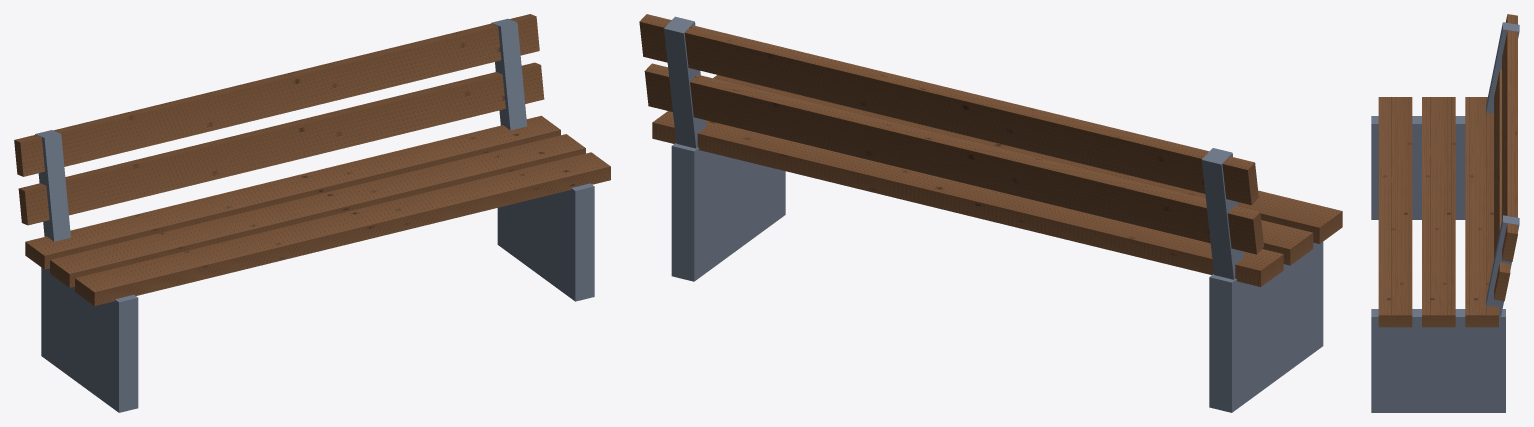
File: ch5_prop_courtyard_bench.glb
The picture shows the model from 3 angles, left to right: view 1: azimuth 30°, elevation 25°; view 2: azimuth 150°, elevation 25°; view 3: azimuth 270°, elevation 25°; orthographic projection. The views are drawn at different scales.
Parts seen in each view (by area): view 1: ch5_prop_courtyard_bench; view 2: ch5_prop_courtyard_bench; view 3: ch5_prop_courtyard_bench.
Part boxes in pixels (x1,y1,x2,y2): ch5_prop_courtyard_bench: [14, 14, 610, 412]; ch5_prop_courtyard_bench: [639, 14, 1342, 412]; ch5_prop_courtyard_bench: [1371, 14, 1519, 412].
Size of the model in its own units: 2.15 by 0.8726 by 0.6156.
2 materials, 1 textured.
